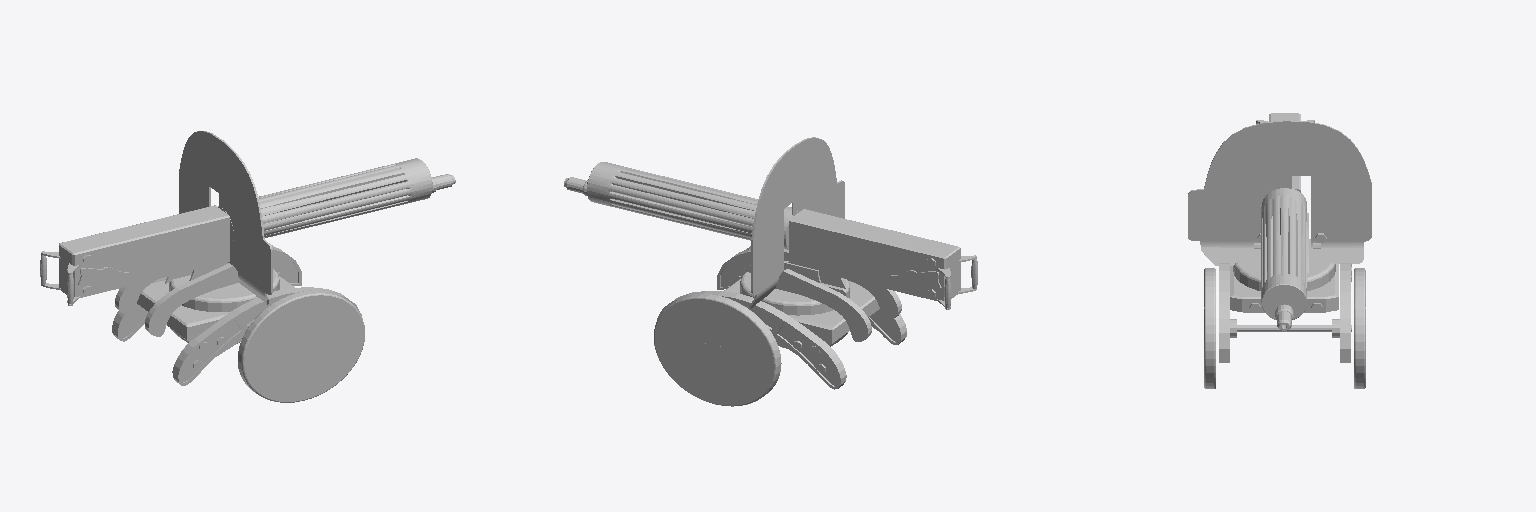
File: makineli tüfek.obj
3 views of the same model, side by side, from view 1: azimuth 30°, elevation 25°; view 2: azimuth 150°, elevation 25°; view 3: azimuth 270°, elevation 25° (orthographic).
Visible parts, largest first — view 1: Circle01, Box19, Line14, Cylinder01, Line15, Line24, Box20, Cylinder07, Line16, Line27, Line23; view 2: Circle04, Box19, Line14, Cylinder01, Line16, Line27, Box20, Line15, Cylinder07, Line24, Line28; view 3: Line14, Cylinder01, Box20, Circle01, Circle04, Cylinder07, Line16, Line15, Cylinder04.
Part boxes in pixels (x1,y1,x2,y2): Circle01: (238, 290, 364, 402); Box19: (59, 205, 229, 297); Line14: (179, 131, 272, 304); Cylinder01: (218, 158, 432, 245); Line15: (172, 287, 361, 385); Line24: (145, 263, 240, 336); Box20: (137, 276, 294, 340); Cylinder07: (169, 269, 279, 311); Line16: (112, 247, 301, 341); Line27: (115, 279, 157, 314); Line23: (78, 267, 129, 285); Circle04: (654, 294, 781, 406); Box19: (789, 209, 960, 300); Line14: (748, 137, 844, 308); Cylinder01: (587, 162, 801, 249); Line16: (657, 291, 846, 389); Line27: (776, 269, 871, 341); Box20: (724, 272, 879, 343); Line15: (717, 249, 906, 344); Cylinder07: (740, 261, 849, 315); Line24: (847, 279, 901, 319); Line28: (889, 270, 941, 289); Line14: (1188, 120, 1371, 265); Cylinder01: (1261, 188, 1306, 319); Box20: (1230, 264, 1338, 312); Circle01: (1204, 268, 1215, 388); Circle04: (1354, 268, 1365, 388); Cylinder07: (1233, 239, 1335, 290); Line16: (1340, 263, 1350, 362); Line15: (1219, 263, 1229, 362); Cylinder04: (1237, 325, 1351, 331).
Size of the model in its own units: 25.36 by 14.64 by 10.15.